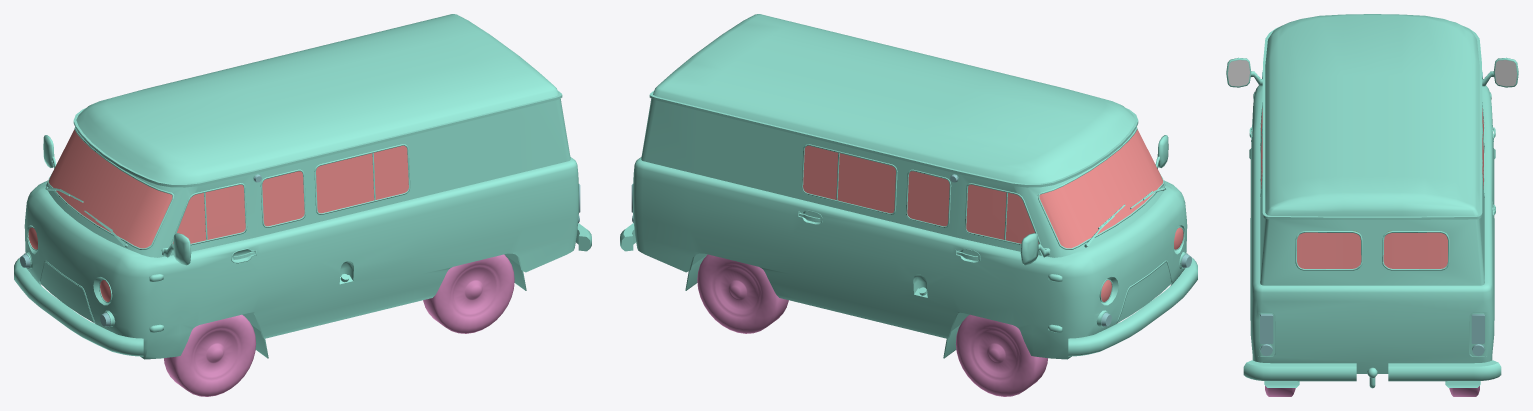
Rendered from UAZ.fbx.
The picture shows the model from 3 angles, left to right: view 1: azimuth 30°, elevation 25°; view 2: azimuth 150°, elevation 25°; view 3: azimuth 270°, elevation 25°; orthographic projection.
Parts seen in each view (by area): view 1: uaz3909_body_low, uaz3909_glass, uaz3909_wheel, uaz3909_wheel002; view 2: uaz3909_body_low, uaz3909_glass, uaz3909_wheel001, uaz3909_wheel003; view 3: uaz3909_body_low, uaz3909_glass, uaz3909_lights_low, uaz3909_reflector_low.
Part boxes in pixels (box(x1,y1,x2,y2)): uaz3909_body_low: box(14, 14, 591, 359); uaz3909_glass: box(28, 129, 408, 301); uaz3909_wheel: box(164, 314, 256, 396); uaz3909_wheel002: box(423, 254, 514, 333); uaz3909_body_low: box(620, 14, 1197, 359); uaz3909_glass: box(803, 129, 1183, 301); uaz3909_wheel001: box(955, 314, 1047, 396); uaz3909_wheel003: box(697, 254, 788, 333); uaz3909_body_low: box(1226, 14, 1518, 388); uaz3909_glass: box(1261, 108, 1483, 268); uaz3909_lights_low: box(1260, 72, 1484, 356); uaz3909_reflector_low: box(1228, 60, 1516, 86).
Bounding box in the file's own units: 4327 × 2008 × 2263.
